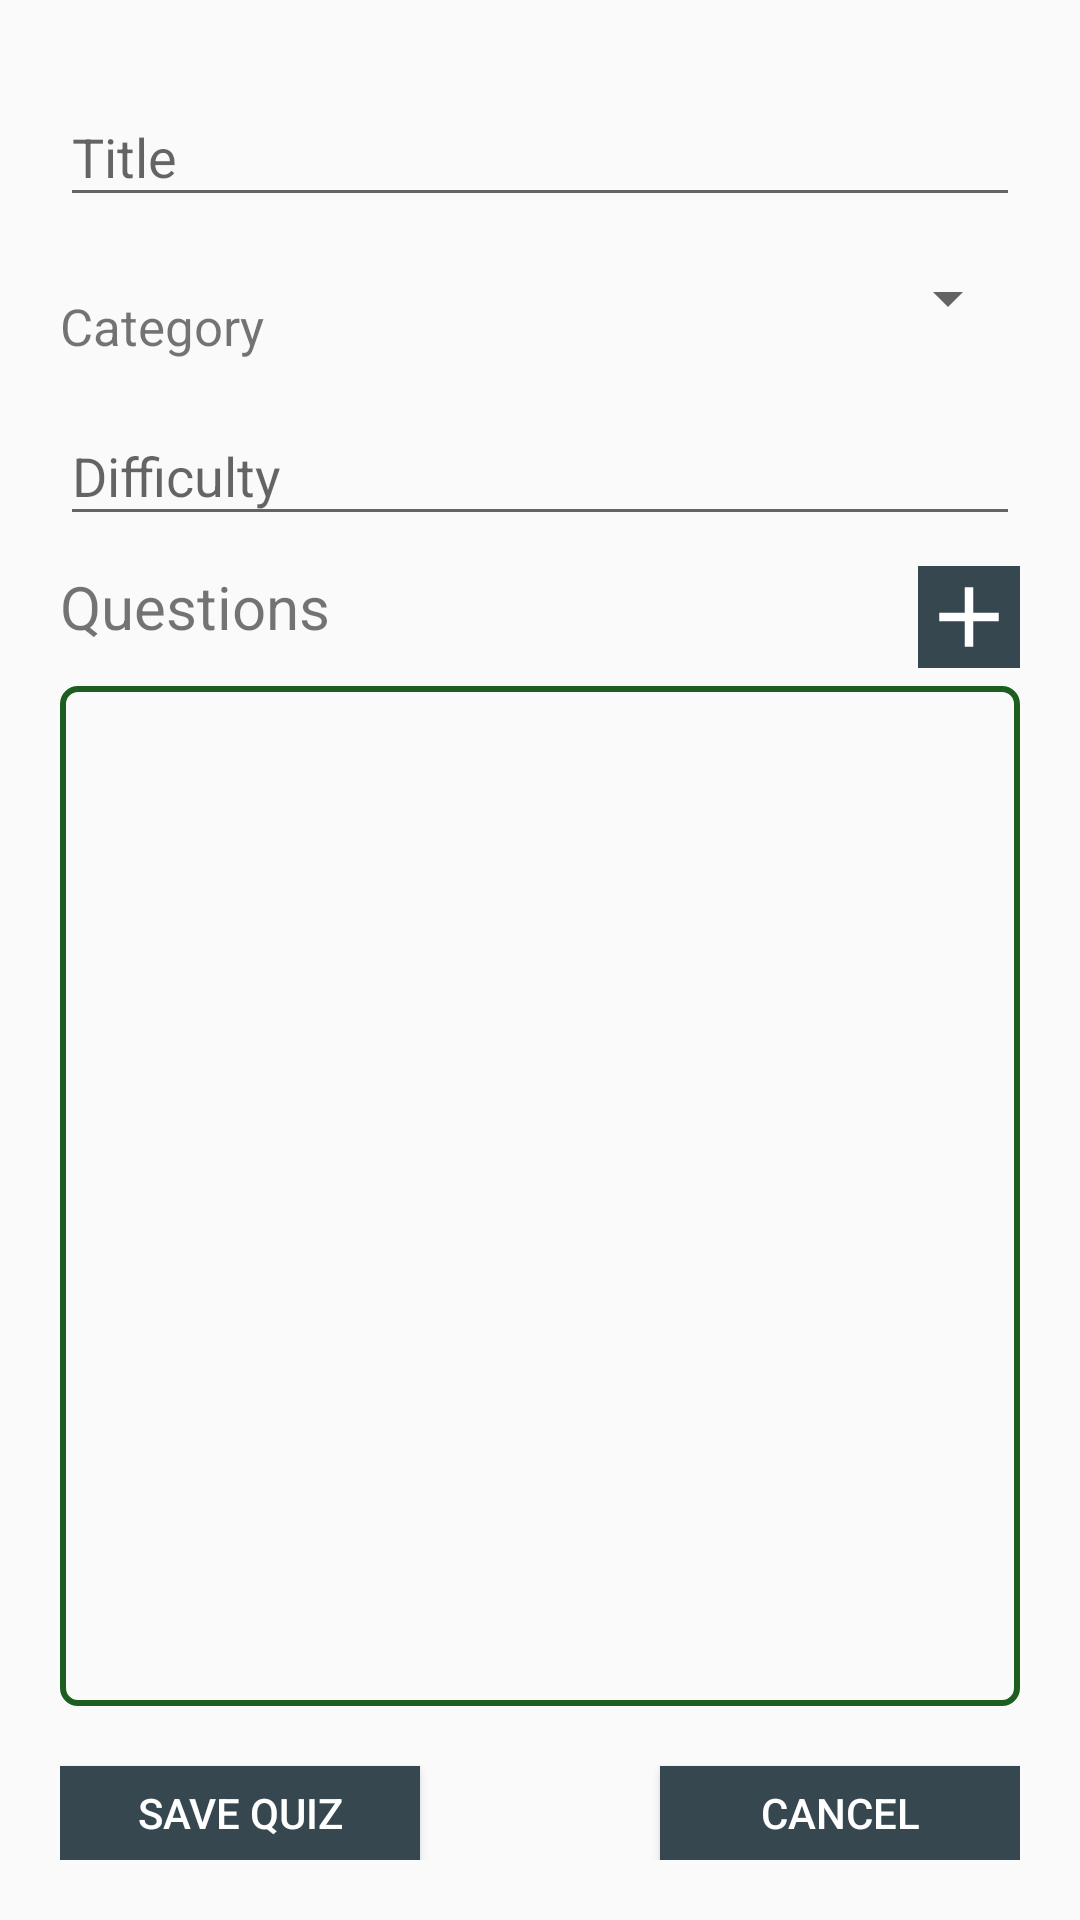

Where to tap for icons on this 1080x1920 app screen, as (x,y):
add: (969,617)
